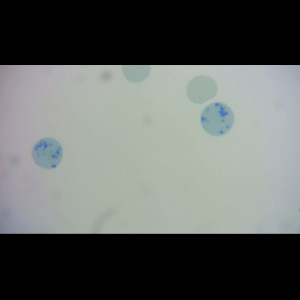aggregate reticulocyte: (199, 101, 235, 136), (30, 136, 65, 170)
erythrocyte: (185, 74, 219, 105)
